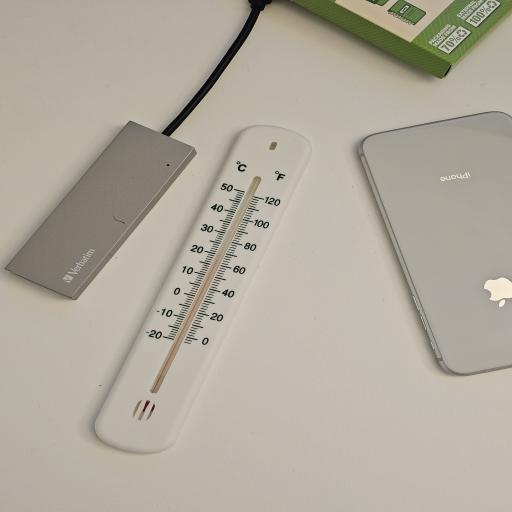thermometer: (95, 123, 314, 453)
